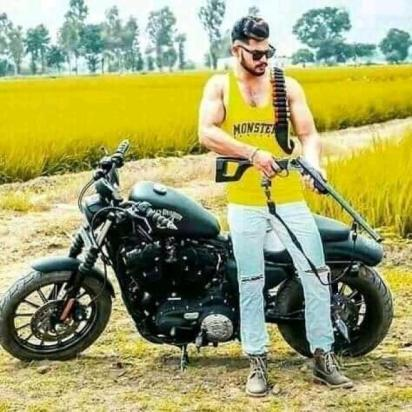Gun: (213, 154, 385, 245)
